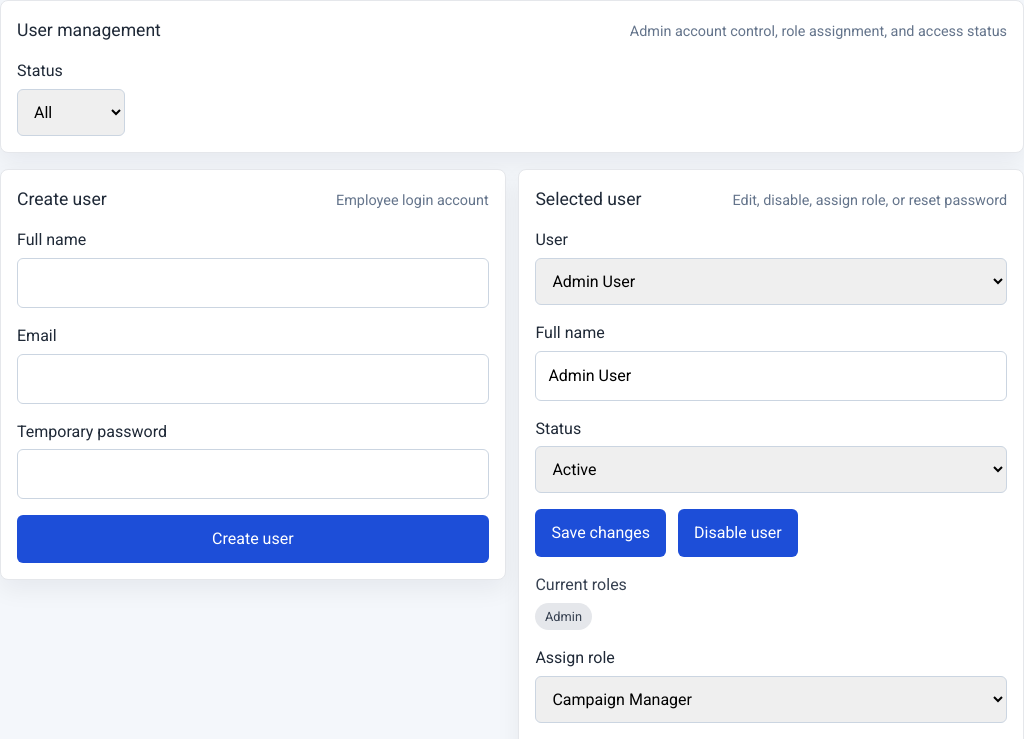
Test case: UsersPage › shows create-user validation messages before posting
expect the element "Create user" is shown: met, box [0,169,506,580]
Click the button "Create user" at x=253, y=539, box [17,515,489,563]
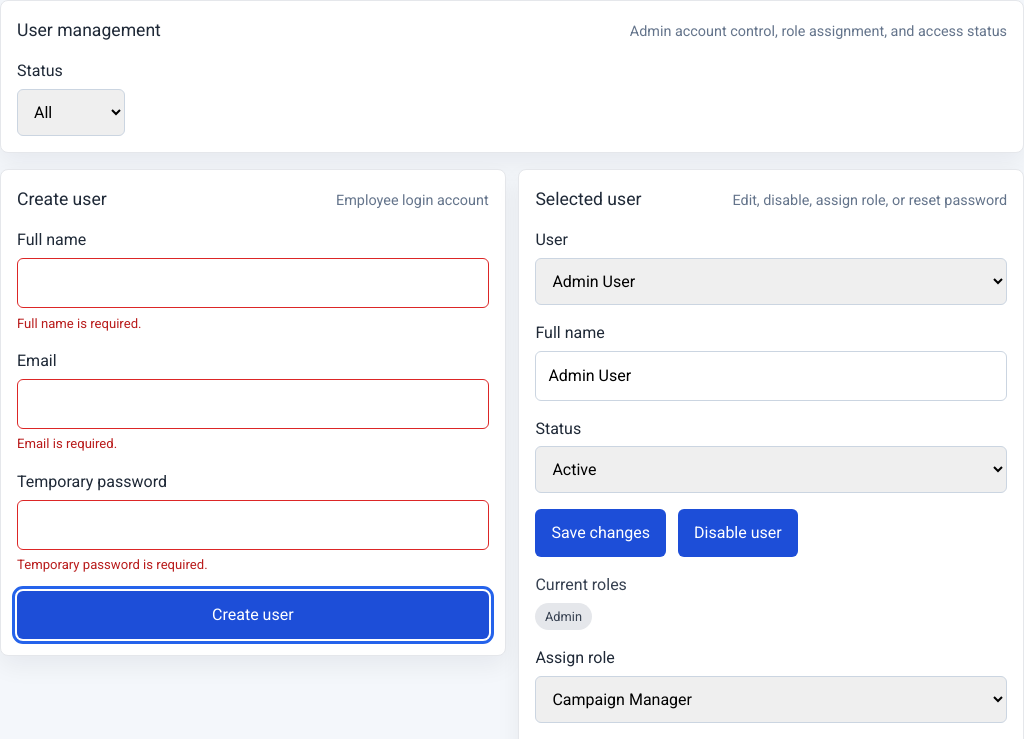
expect the text "Full name is required." is shown: met, box [17,316,142,331]
expect the text "Email is required." is shown: met, box [17,436,117,451]
expect the text "Temporary password is required." is shown: met, box [17,557,208,572]
